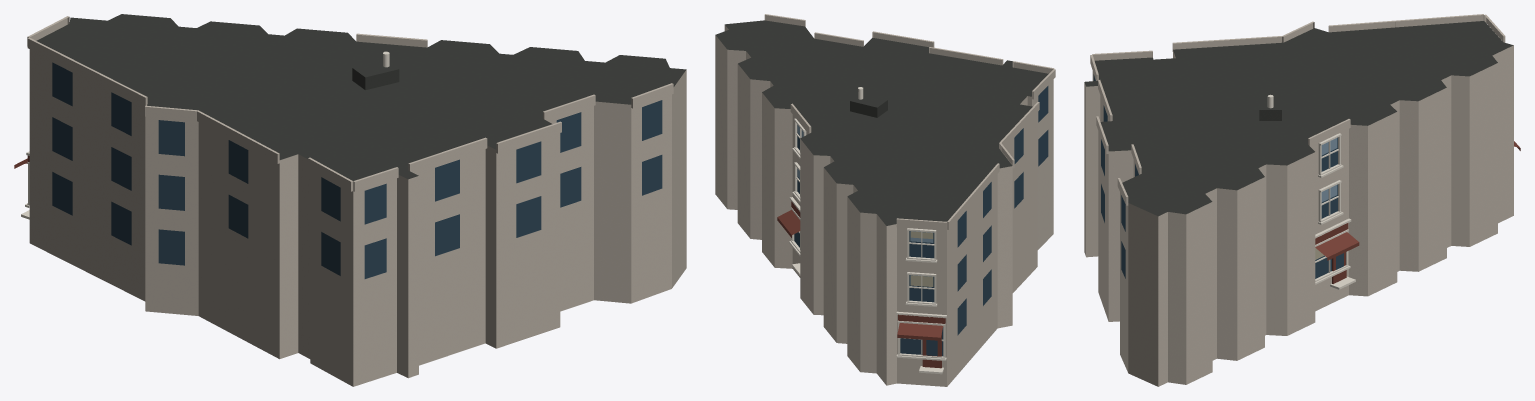
The picture shows the model from 3 angles, left to right: view 1: azimuth 30°, elevation 25°; view 2: azimuth 150°, elevation 25°; view 3: azimuth 270°, elevation 25°; orthographic projection. The views are drawn at different scales.
Parts seen in each view (by area): view 1: Footprint 0 / surface 2, Footprint 0 / surface 1, Inset glazing, Facade bay volumes; view 2: Footprint 0 / surface 2, Footprint 0 / surface 1, Inset glazing, Facade bay volumes, Cornices and window frames, Storefronts and doors, Interior blind variation, Inferred rooftop service enclosure / surface 6; view 3: Footprint 0 / surface 2, Footprint 0 / surface 1, Facade bay volumes, Cornices and window frames, Inset glazing, Storefronts and doors.
Boxes of the visible parts, x1,y1,x2,y2 form: Footprint 0 / surface 2: (29, 49, 686, 386); Footprint 0 / surface 1: (36, 14, 686, 180); Inset glazing: (52, 62, 662, 278); Facade bay volumes: (27, 16, 673, 191); Footprint 0 / surface 2: (715, 25, 1053, 386); Footprint 0 / surface 1: (715, 20, 1048, 225); Inset glazing: (794, 86, 1048, 356); Facade bay volumes: (764, 14, 1055, 230); Cornices and window frames: (789, 118, 946, 374); Storefronts and doors: (777, 201, 945, 368); Interior blind variation: (910, 231, 933, 286); Inferred rooftop service enclosure / surface 6: (850, 101, 877, 117); Footprint 0 / surface 2: (1084, 45, 1513, 386); Footprint 0 / surface 1: (1084, 21, 1513, 216); Facade bay volumes: (1090, 14, 1505, 205); Cornices and window frames: (1315, 30, 1501, 289); Inset glazing: (1093, 74, 1343, 278); Storefronts and doors: (1315, 141, 1520, 283).
Bounding box in the file's own units: 24.9 × 11.35 × 23.28.
